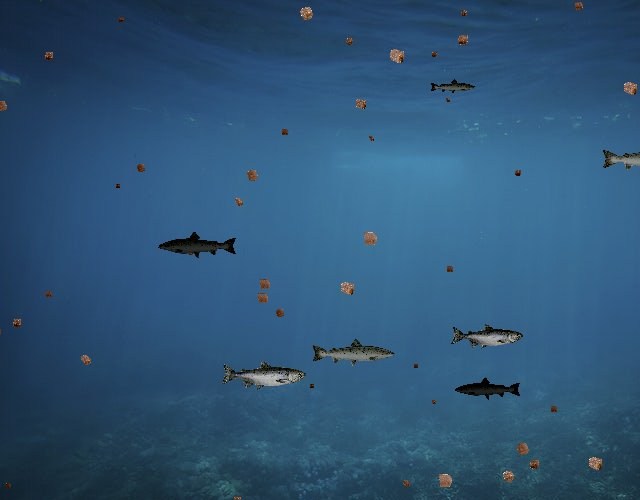Fish: (310, 337, 396, 368), (220, 360, 306, 391), (158, 230, 239, 259), (450, 324, 523, 350), (454, 376, 522, 401), (429, 78, 476, 95)
Pellet: (510, 436, 536, 462), (496, 464, 521, 489), (75, 349, 96, 371), (569, 0, 588, 16), (510, 166, 524, 180), (428, 49, 441, 62), (115, 14, 127, 26)
